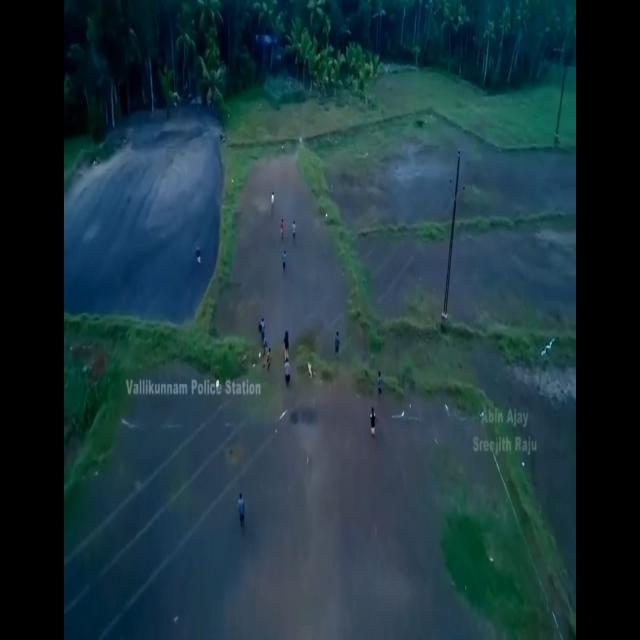humans: (235, 486, 249, 538), (366, 399, 379, 442), (331, 323, 343, 364), (256, 308, 269, 345), (282, 353, 292, 392), (282, 328, 298, 352), (263, 341, 273, 379), (276, 213, 287, 246), (290, 215, 300, 249), (375, 366, 384, 402), (268, 182, 277, 214), (279, 246, 289, 274)
